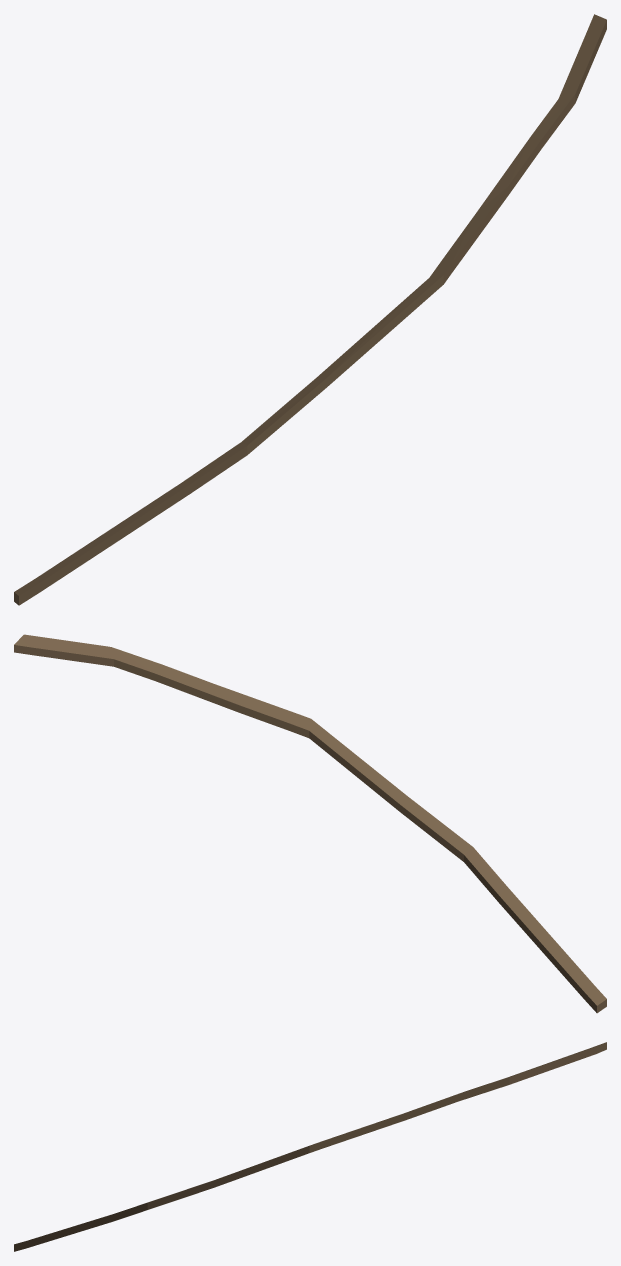
3 views of the same model, one above another, from view 1: azimuth 30°, elevation 25°; view 2: azimuth 150°, elevation 25°; view 3: azimuth 330°, elevation 25° (orthographic). The views are drawn at different scales.
Size of the model in its own units: 50.6 by 26.97 by 15.67.
